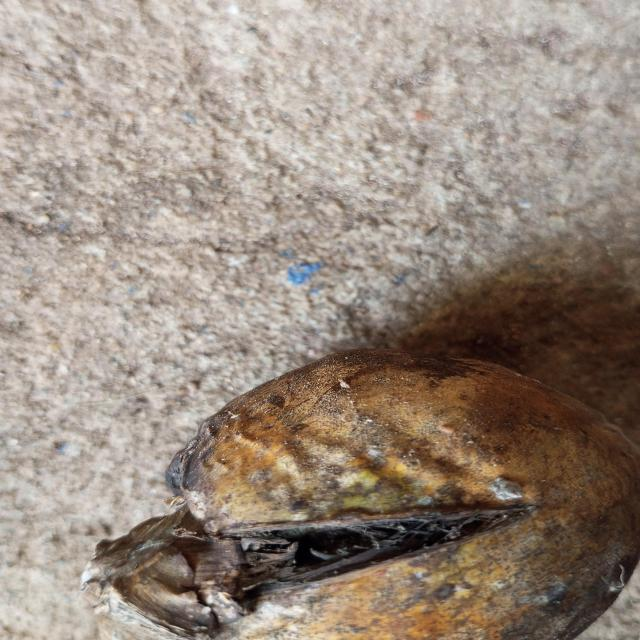damaged: (80, 348, 640, 640)
